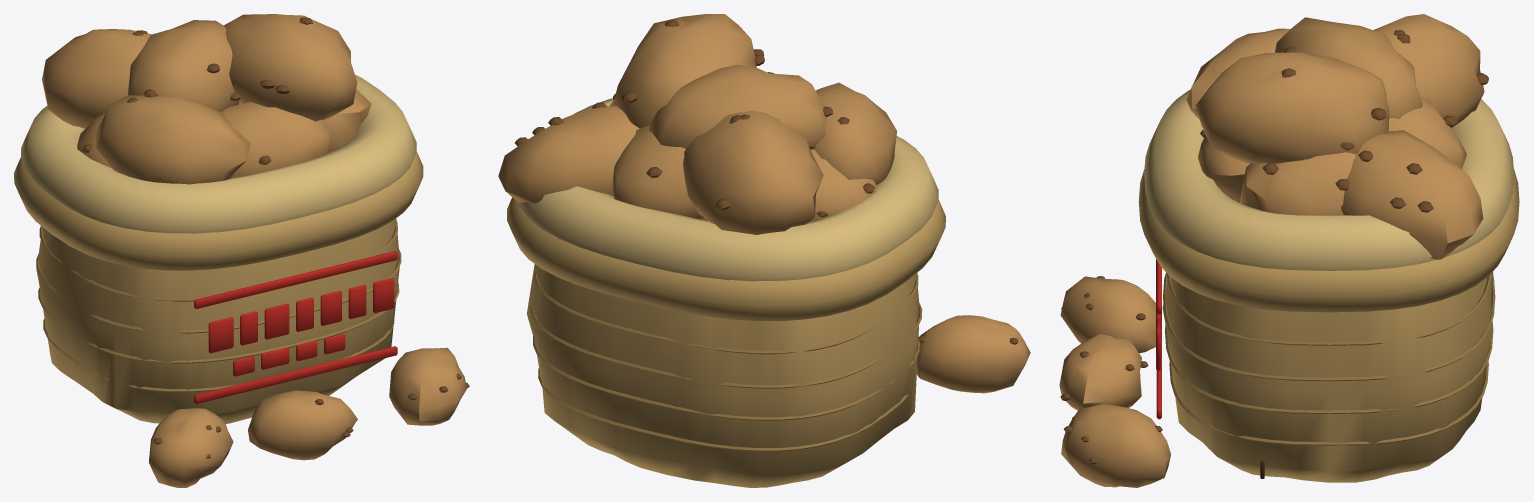
The model's file is dispenser_potatoes.glb.
The picture shows the model from 3 angles, left to right: view 1: azimuth 30°, elevation 25°; view 2: azimuth 150°, elevation 25°; view 3: azimuth 270°, elevation 25°; orthographic projection. The views are drawn at different scales.
Parts seen in each view (by area): view 1: DispenserPotatoes; view 2: DispenserPotatoes; view 3: DispenserPotatoes.
Boxes of the visible parts, bbox=[...] form: DispenserPotatoes: bbox=[14, 14, 469, 487]; DispenserPotatoes: bbox=[498, 14, 1030, 487]; DispenserPotatoes: bbox=[1059, 14, 1519, 487].
Size of the model in its own units: 5 by 4.86 by 5.17.
